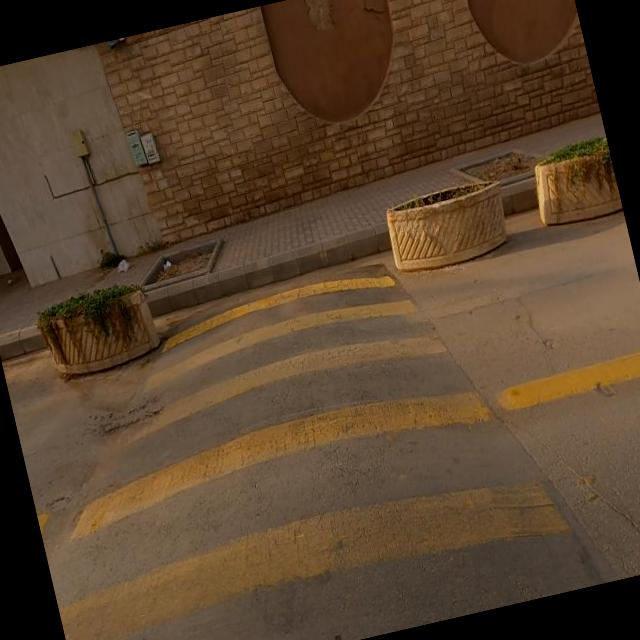debris: (91, 235, 151, 295)
